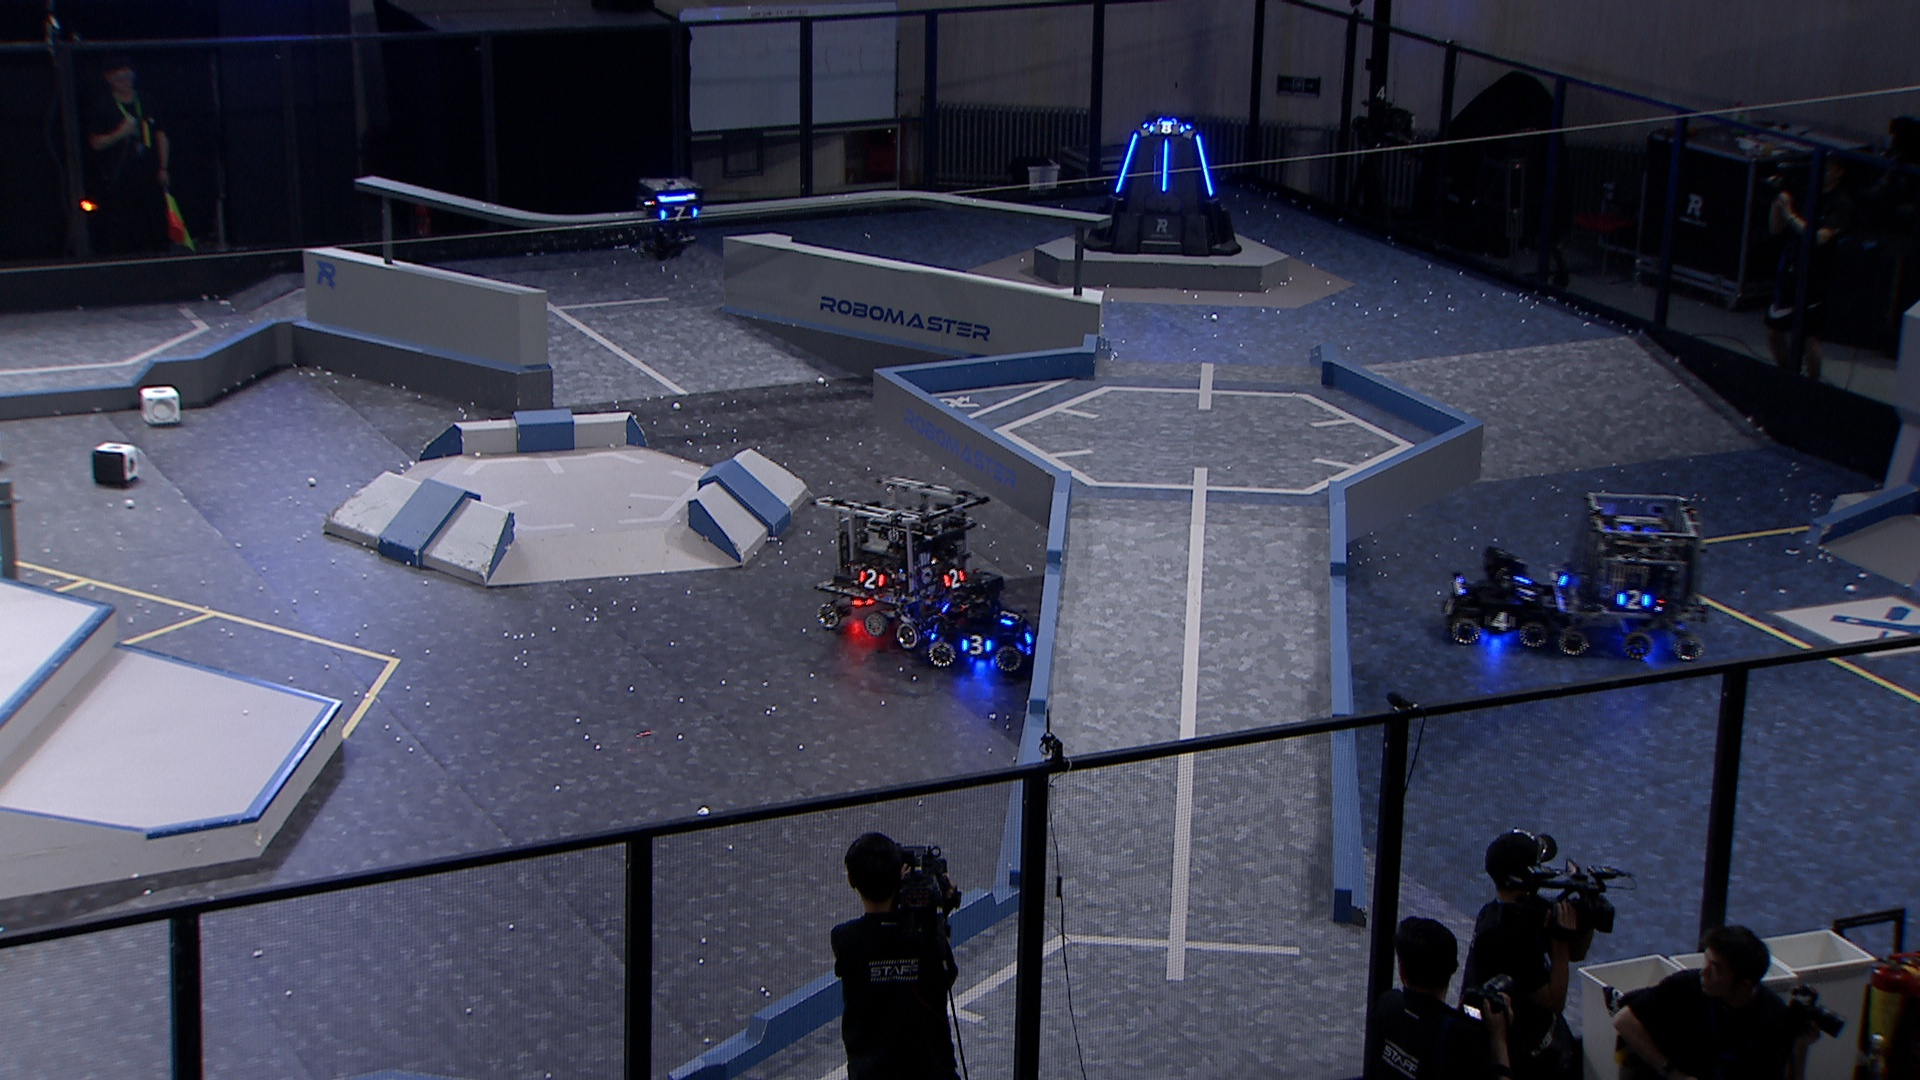armor: (1114, 128, 1139, 195), (1193, 133, 1218, 196), (1615, 588, 1655, 613), (957, 636, 997, 657), (655, 204, 702, 222), (858, 568, 889, 593), (1159, 140, 1171, 195), (1487, 611, 1518, 632), (942, 568, 969, 591), (1149, 120, 1188, 135), (997, 607, 1019, 626), (1021, 622, 1038, 646), (1439, 597, 1457, 618)
base: (1076, 113, 1242, 257)
car: (808, 472, 992, 651), (1547, 489, 1716, 662), (923, 570, 1046, 680), (1433, 550, 1557, 651)
watcher: (632, 174, 707, 261)
